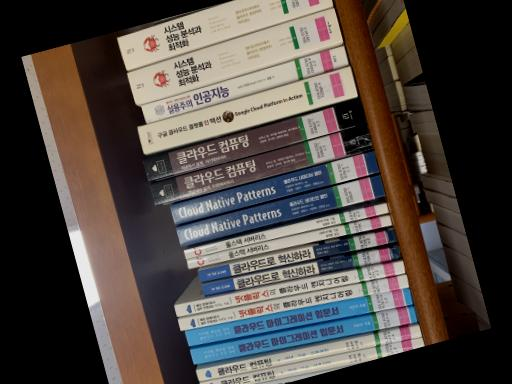book-spine: (126, 6, 342, 102), (136, 64, 357, 152), (142, 97, 366, 180), (149, 123, 373, 204), (141, 45, 348, 122), (169, 150, 378, 223), (175, 173, 385, 244), (116, 0, 332, 68), (189, 305, 417, 364), (184, 287, 412, 345), (173, 259, 405, 316), (195, 323, 422, 380), (178, 273, 408, 329), (183, 201, 388, 257), (185, 213, 391, 267), (199, 336, 425, 384), (197, 227, 397, 280), (201, 245, 400, 294), (250, 360, 372, 384)
